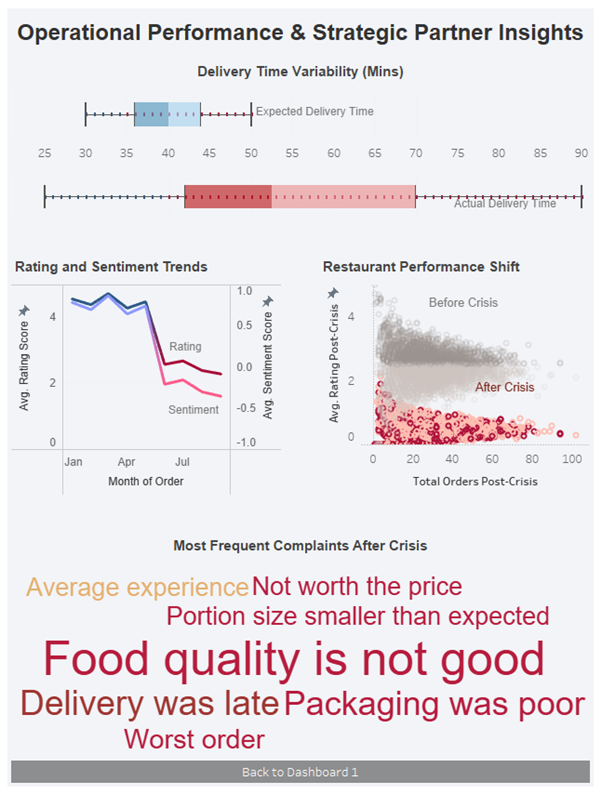

This screenshot's page, from the dashboard's own definition file:
{"tool":"tableau","page":{"name":"Dashboard 3","canvas":[650,860],"ordinal":2},"visuals":[{"type":"text","box":[10,10,630,32.3]},{"type":"blank","box":[10,42.3,630,32.6]},{"type":"text","box":[10,74.9,630,32.5]},{"type":"worksheet","title":"Boxplot-Expected","mark":"GanttBar","cols":["expected_delivery_time_mins"],"box":[10,107.4,630,96.3]},{"type":"worksheet","title":"Boxplot-Actual","mark":"GanttBar","cols":["actual_delivery_time_mins"],"box":[10,203.7,630,100.4]},{"type":"worksheet","title":"Rating-Sentiment","mark":"Automatic","rows":["rating","sentiment_score"],"cols":["order_timestamp"],"box":[10,304.1,299,281]},{"type":"blank","box":[309,304.1,32,281]},{"type":"worksheet","title":"Rest","mark":"Automatic","rows":["rating_post","rating_pre"],"cols":["order_id"],"box":[341,304.1,299,281]},{"type":"blank","box":[10,585,630,32.1]},{"type":"worksheet","title":"Review (1)","mark":"Text","box":[10,617.2,630,232.8]}]}

Visuals, with their boxes in screenshot pixels (x1, y1, x2, y2), scaled from the page's 650x860 canvas onto the 602x794 screenshot:
text: l=9, t=9, r=593, b=39
blank: l=9, t=39, r=593, b=69
text: l=9, t=69, r=593, b=99
"Boxplot-Expected" worksheet (GanttBar marks): l=9, t=99, r=593, b=188
"Boxplot-Actual" worksheet (GanttBar marks): l=9, t=188, r=593, b=281
"Rating-Sentiment" worksheet: l=9, t=281, r=286, b=540
blank: l=286, t=281, r=316, b=540
"Rest" worksheet: l=316, t=281, r=593, b=540
blank: l=9, t=540, r=593, b=570
"Review (1)" worksheet (Text marks): l=9, t=570, r=593, b=785
